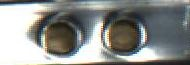joints: (27, 10, 86, 59), (99, 9, 149, 58)
